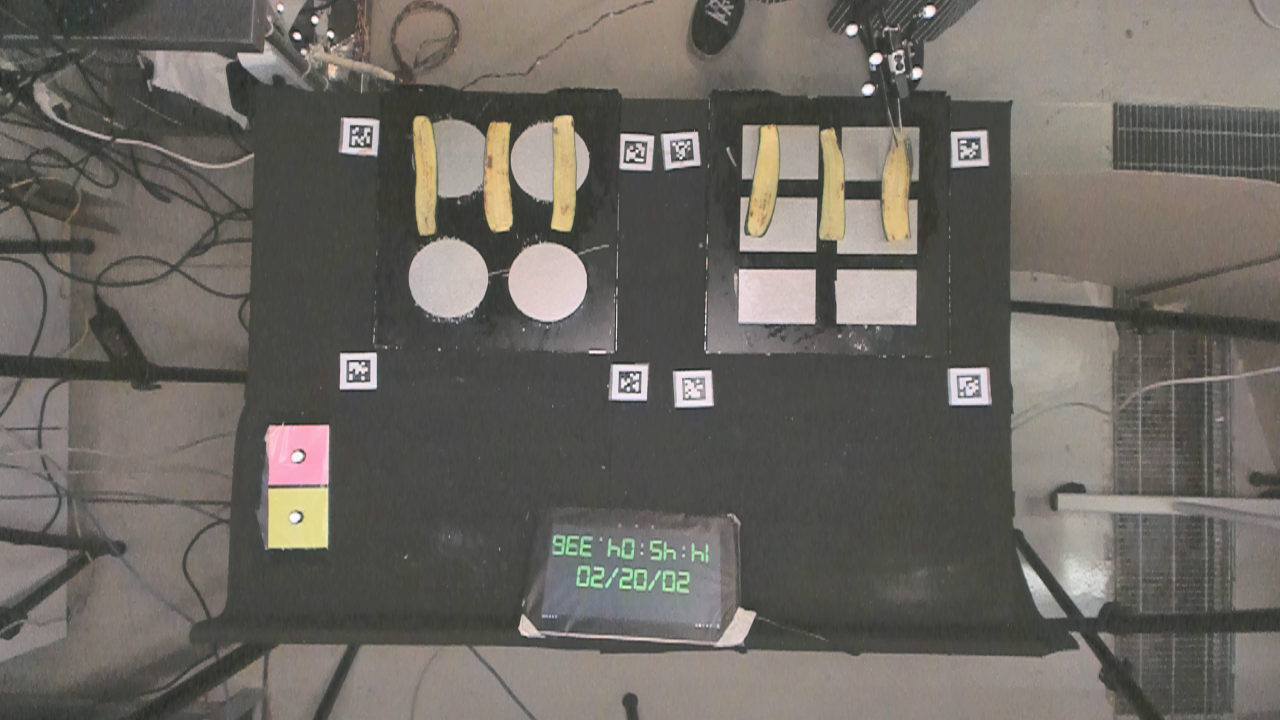marker: (266, 425, 329, 484)
zucchini: (743, 111, 781, 239), (481, 108, 516, 237), (816, 122, 850, 244), (409, 112, 441, 238), (882, 127, 915, 247), (550, 110, 580, 237)
